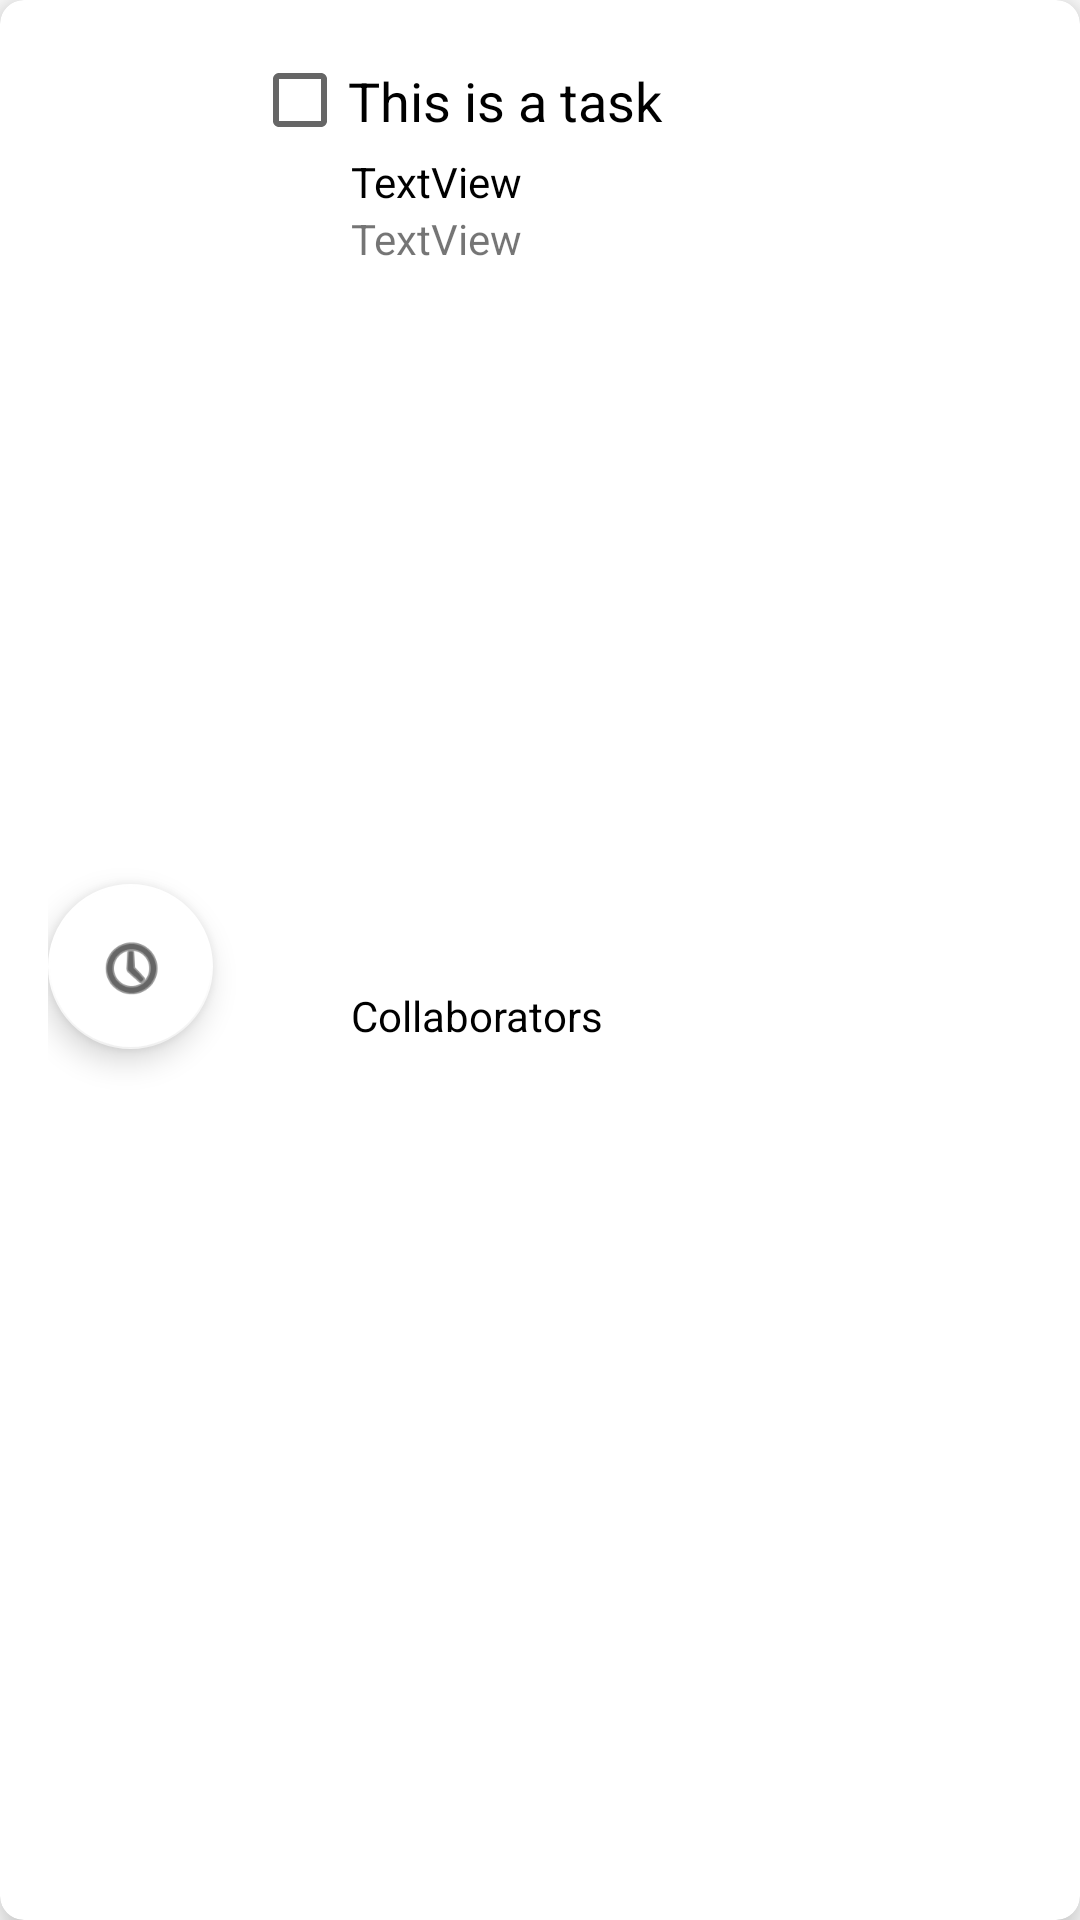

Named icons in this screenshot (1080*1920) and their bounding boxes, BBox(x1, y1, x2, y2):
recent history: BBox(48, 942, 200, 1013)
